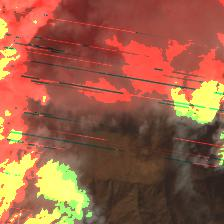landslides: (58, 33, 88, 40)
